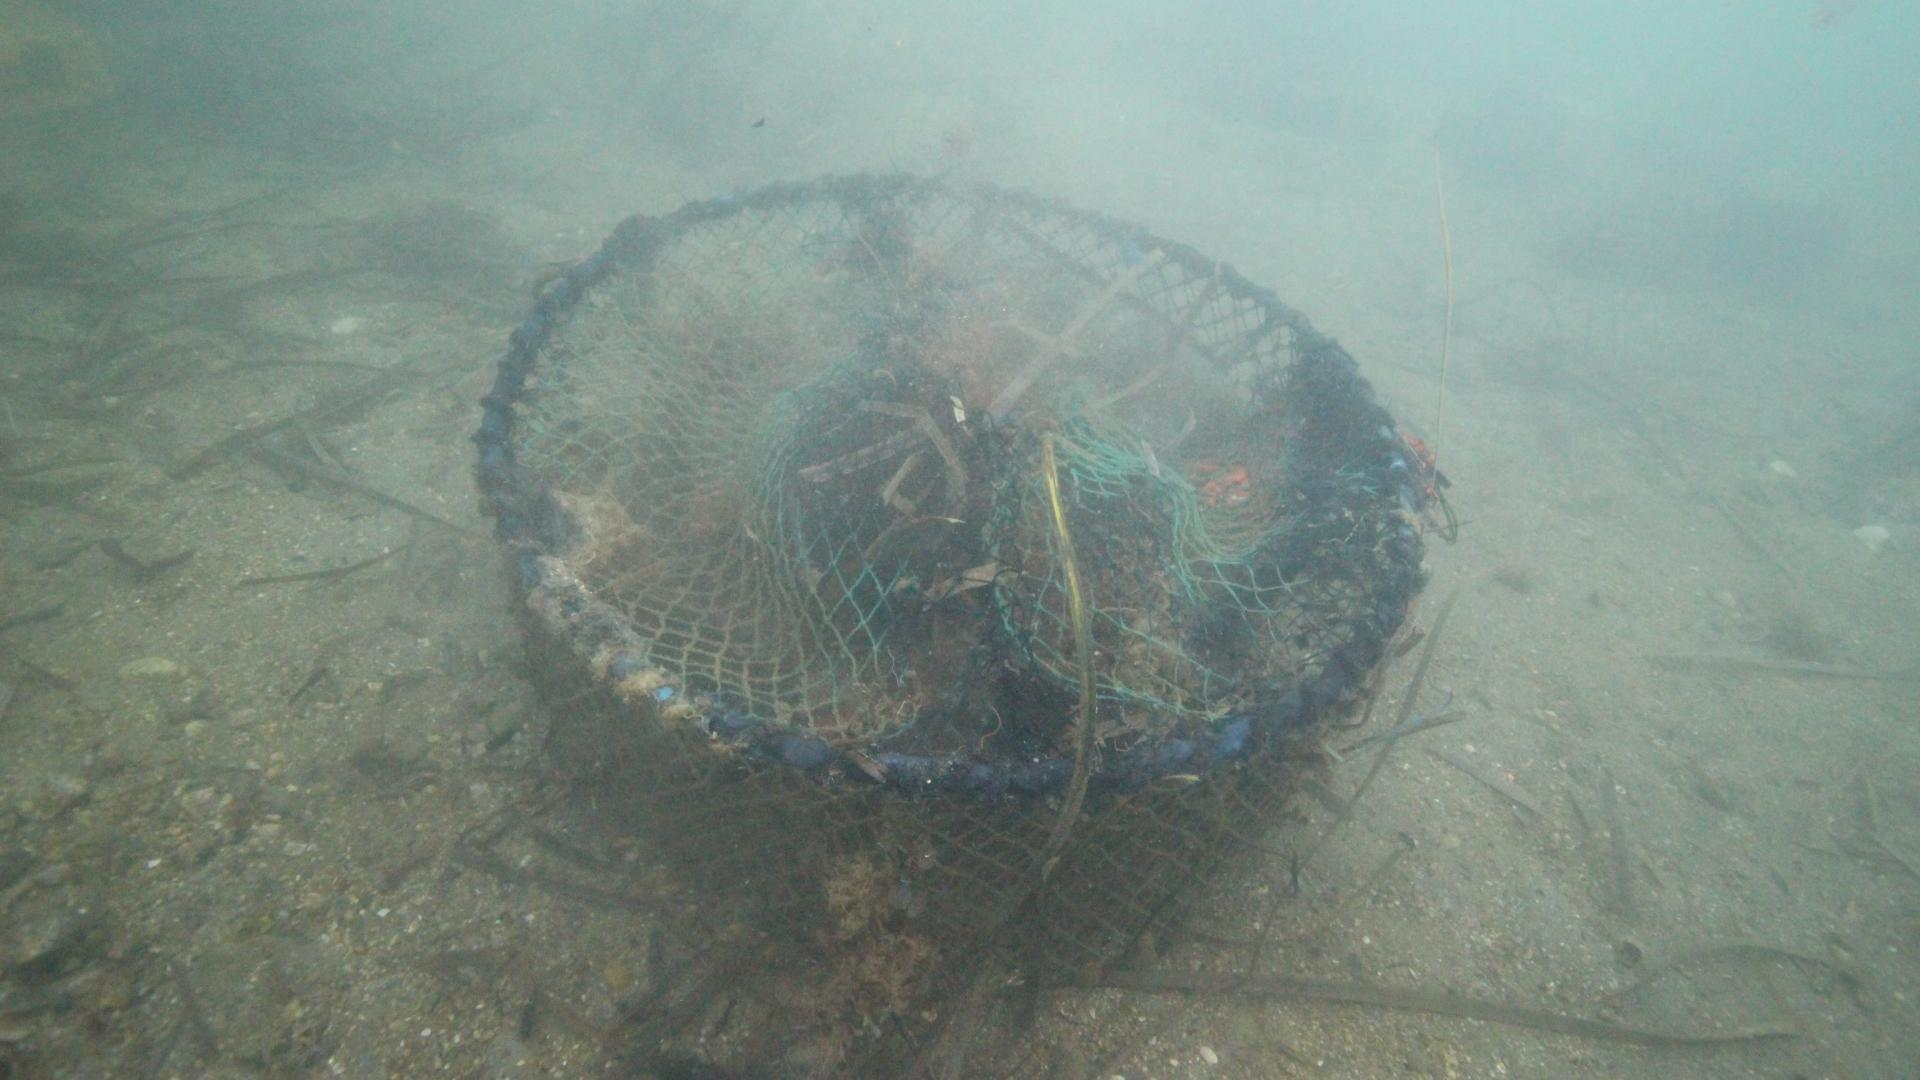circular fish trap: (473, 173, 1431, 975)
